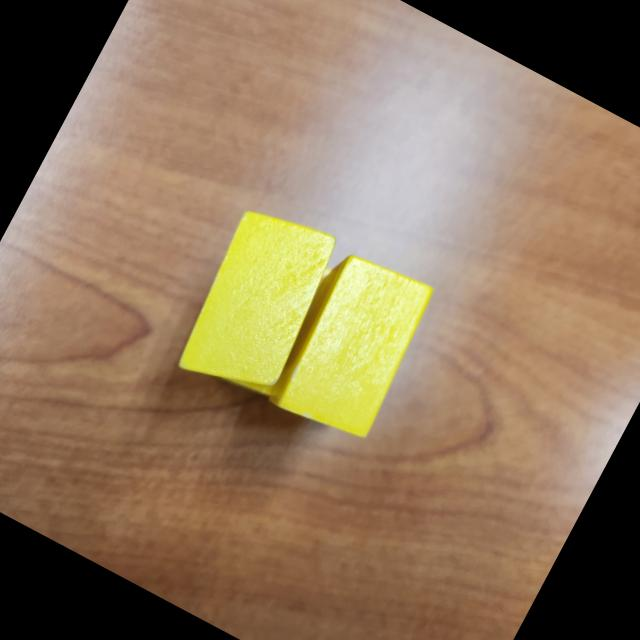yellow: (165, 195, 352, 414), (262, 239, 444, 451), (214, 240, 346, 408)
